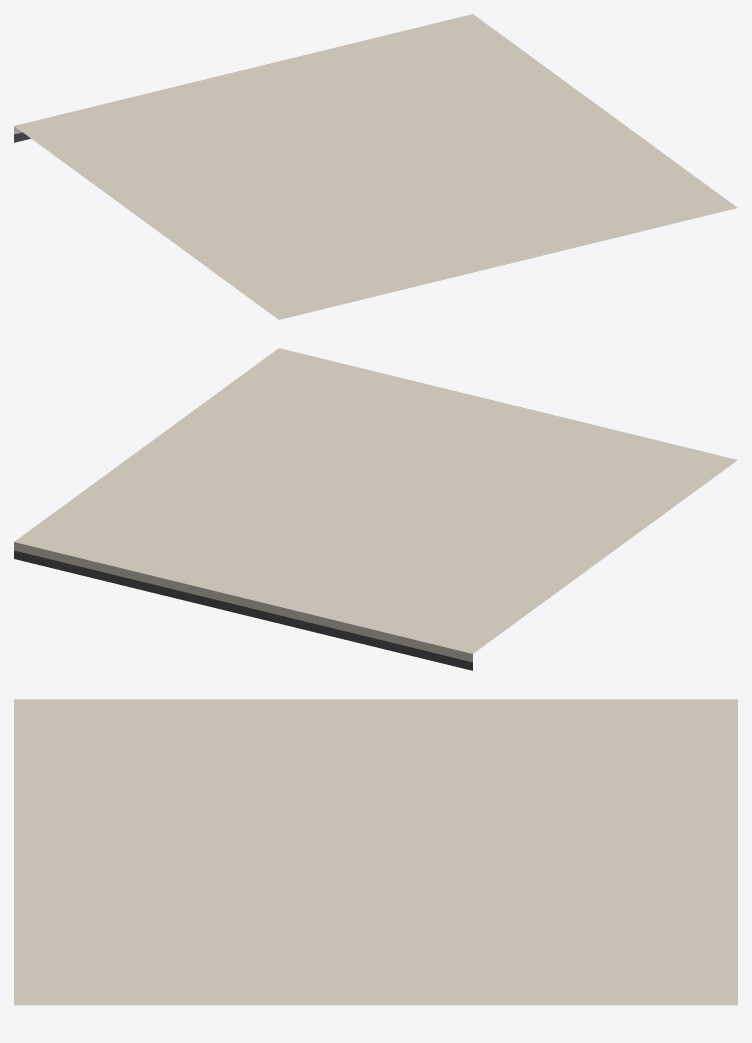
File: pavement pavement.fbx
3 renders of one model, top to bottom at view 1: azimuth 30°, elevation 25°; view 2: azimuth 150°, elevation 25°; view 3: azimuth 270°, elevation 25°, orthographic. The views are drawn at different scales.
Visible parts, largest first — view 1: pavement_pavement; view 2: pavement_pavement; view 3: pavement_pavement.
Boxes of the visible parts, <box> form: pavement_pavement: <box>14,14,737,319</box>; pavement_pavement: <box>14,348,737,670</box>; pavement_pavement: <box>14,699,737,1005</box>.
Bounding box in the file's own units: 1000 × 35.23 × 1000.
